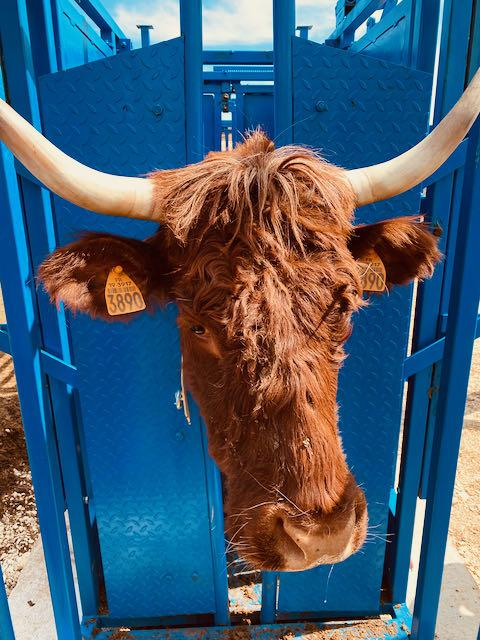muzzles: (223, 500, 383, 572)
